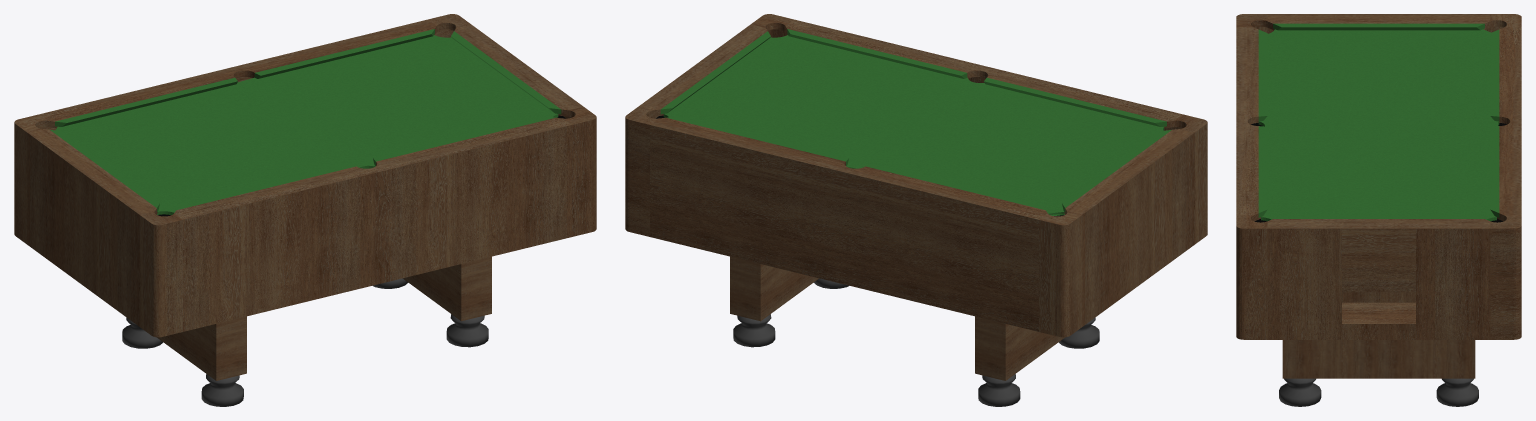
The model's file is 9Ball_Pool_Mapping.fbx.
The picture shows the model from 3 angles, left to right: view 1: azimuth 30°, elevation 25°; view 2: azimuth 150°, elevation 25°; view 3: azimuth 270°, elevation 25°; orthographic projection.
Parts seen in each view (by area): view 1: Pool Table, Pool Table.001, Cube.007, Cube.006, Cushion4, Cushion5, Cylinder.007, Cylinder.004, Cushion6, Cushion1, Cushion2, Cushion3 (+1 smaller); view 2: Pool Table, Pool Table.001, Cube.007, Cube.006, Cushion2, Cushion1, Cylinder.006, Cylinder.005, Cushion6, Cushion5, Cushion4, Cushion3 (+1 smaller); view 3: Pool Table, Pool Table.001, Cube.007, Cushion3, Cylinder.006, Cylinder.007, Cushion1, Cushion2, Cushion4, Cushion5, Cushion6.
Boxes of the visible parts, x1,y1,x2,y2 form: Pool Table: [14, 14, 596, 337]; Pool Table.001: [56, 35, 558, 215]; Cube.007: [403, 256, 491, 321]; Cube.006: [157, 316, 246, 380]; Cushion4: [55, 77, 237, 126]; Cushion5: [254, 29, 434, 78]; Cylinder.007: [446, 314, 488, 347]; Cylinder.004: [201, 374, 243, 406]; Cushion6: [451, 31, 561, 114]; Cushion1: [373, 116, 554, 165]; Cushion2: [176, 163, 355, 210]; Cushion3: [50, 130, 159, 211]; Pool Table: [625, 14, 1207, 337]; Pool Table.001: [663, 35, 1164, 215]; Cube.007: [730, 256, 818, 321]; Cube.006: [975, 316, 1064, 380]; Cushion2: [984, 77, 1166, 126]; Cushion1: [787, 29, 967, 78]; Cylinder.006: [733, 314, 775, 347]; Cylinder.005: [978, 374, 1020, 406]; Cushion6: [660, 31, 770, 114]; Cushion5: [667, 116, 848, 165]; Cushion4: [866, 163, 1045, 210]; Cushion3: [1062, 130, 1171, 212]; Pool Table: [1236, 14, 1521, 339]; Pool Table.001: [1258, 29, 1499, 221]; Cube.007: [1282, 340, 1475, 378]; Cushion3: [1273, 23, 1484, 30]; Cylinder.006: [1436, 378, 1478, 406]; Cylinder.007: [1279, 378, 1321, 406]; Cushion1: [1258, 126, 1267, 217]; Cushion2: [1258, 29, 1267, 121]; Cushion4: [1490, 29, 1499, 121]; Cushion5: [1490, 126, 1499, 217]; Cushion6: [1274, 215, 1483, 218].
Bounding box in the file's own units: 2.9 × 1.37 × 1.63.
6 materials, 4 textured.
